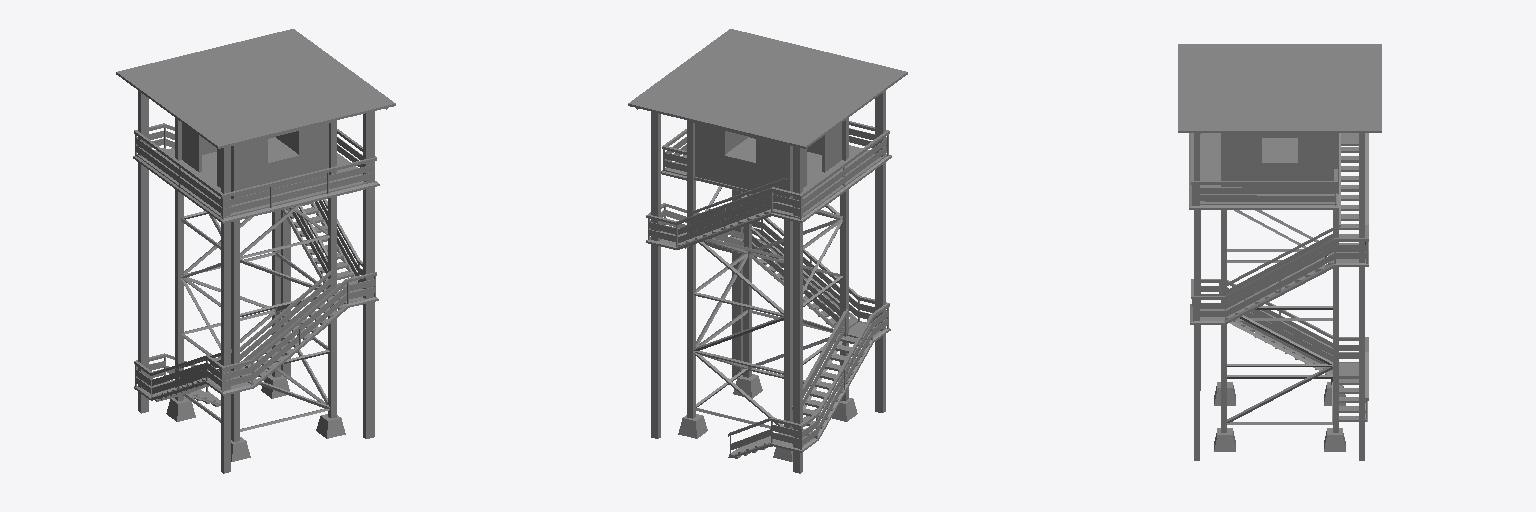
File: tower.obj
3 views of the same model, side by side, from view 1: azimuth 30°, elevation 25°; view 2: azimuth 150°, elevation 25°; view 3: azimuth 270°, elevation 25° (orthographic).
Parts seen in each view (by area): view 1: default; view 2: default; view 3: default.
Boxes of the visible parts, <box> form: default: <box>116,29,395,473</box>; default: <box>628,29,907,473</box>; default: <box>1178,44,1381,460</box>.
Size of the model in its own units: 4.22 by 7.65 by 4.22.